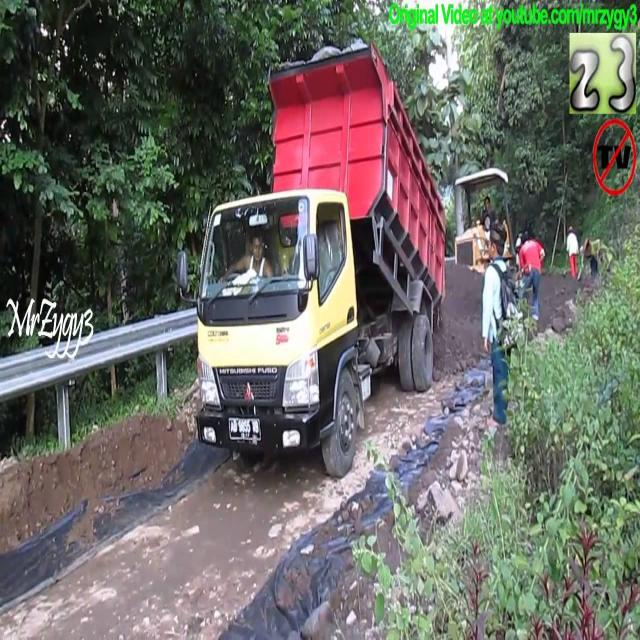truck: (183, 37, 449, 480)
